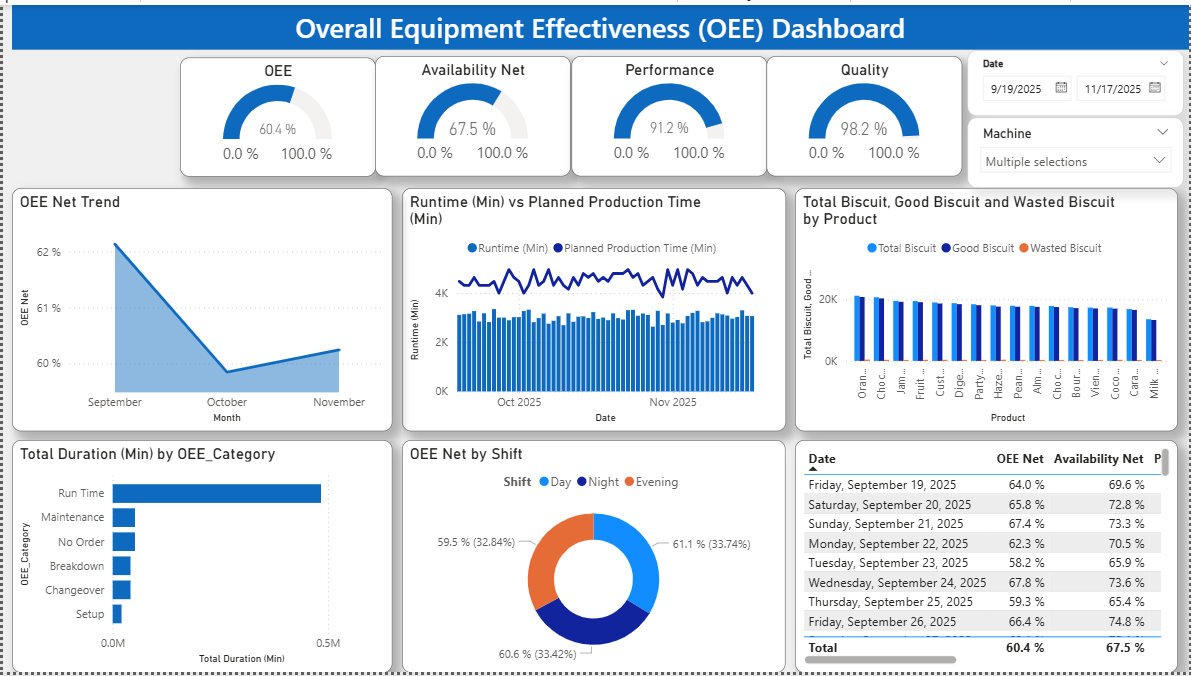

The dashboard page shown, as its layout file describes it:
{"tool":"powerbi","page":{"name":"Overview ","canvas":[1280,720],"ordinal":0},"visuals":[{"type":"shape","title":"fhgvjhbklhvghb","box":[10,0,1270.4,48.1],"z":0},{"type":"gauge","fields":{"Y":["FACT_PRODUCTION.OEE"]},"box":[190.4,56.2,211.3,128.8],"z":1000},{"type":"gauge","fields":{"Y":["FACT_PRODUCTION.Availability Net"]},"box":[401.7,55.3,211.3,129.7],"z":2000},{"type":"gauge","fields":{"Y":["FACT_PRODUCTION.Performance"]},"box":[613,55.3,211.3,129.7],"z":3000},{"type":"gauge","fields":{"Y":["FACT_PRODUCTION.Quality"]},"box":[824.3,55.3,211.3,129.7],"z":4000},{"type":"lineClusteredColumnComboChart","title":"Runtime (Min) vs Planned Production Time (Min)","fields":{"Y":["FACT_PRODUCTION.Runtime (Min)"],"Y2":["FACT_PRODUCTION.Planned Production Time (Min)"],"Category":["DIM_DATE.Date"]},"box":[430.7,196.8,414.4,263],"z":5000},{"type":"lineChart","title":"OEE Net Trend","fields":{"Y":["FACT_PRODUCTION.OEE Net"],"Category":["DIM_DATE.Date.Variation.Date Hierarchy.Year","DIM_DATE.Date.Variation.Date Hierarchy.Quarter","DIM_DATE.Date.Variation.Date Hierarchy.Month","DIM_DATE.Date.Variation.Date Hierarchy.Day"]},"box":[10,196.8,410.8,263],"z":6000},{"type":"barChart","fields":{"Category":["DIM_DOWNTIME_CAT.OEE_Category"],"Y":["FACT_PRODUCTION.Total Duration (Min)"]},"box":[10,468.8,410.8,251.2],"z":7000},{"type":"clusteredColumnChart","fields":{"Category":["DIM_PRODUCT.Product"],"Y":["FACT_PRODUCTION.Total Biscuit","FACT_PRODUCTION.Good Biscuit","FACT_PRODUCTION.Wasted Biscuit"]},"box":[855.1,196.8,413.5,263],"z":8000},{"type":"tableEx","fields":{"Values":["DIM_DATE.Date","FACT_PRODUCTION.OEE Net","FACT_PRODUCTION.Availability Net","FACT_PRODUCTION.Performance","FACT_PRODUCTION.Quality","FACT_PRODUCTION.Total Biscuit","FACT_PRODUCTION.Good Biscuit","FACT_PRODUCTION.Wasted Biscuit","FACT_PRODUCTION.Runtime (Min)"]},"box":[855.1,468.8,413.5,251.2],"z":9000},{"type":"slicer","fields":{"Values":["DIM_DATE.Date"]},"box":[1041,48,233.5,71.1],"z":10000},{"type":"slicer","fields":{"Values":["DIM_MACHINE.Machine"]},"box":[1041,120.9,233.5,75.7],"z":11000},{"type":"donutChart","fields":{"Category":["DIM_SHIFT.Shift"],"Y":["FACT_PRODUCTION.OEE Net"]},"box":[431,469,414,251],"z":12000}]}

Visuals, with their boxes in screenshot pixels (x1, y1, x2, y2), scaled from the page's 1280x720 canvas onto the 1191x676 screenshot:
"fhgvjhbklhvghb" shape: region(9, 0, 1190, 45)
gauge - FACT_PRODUCTION.OEE: region(177, 53, 374, 174)
gauge - FACT_PRODUCTION.Availability Net: region(374, 52, 570, 174)
gauge - FACT_PRODUCTION.Performance: region(570, 52, 767, 174)
gauge - FACT_PRODUCTION.Quality: region(767, 52, 964, 174)
"Runtime (Min) vs Planned Production Time (Min)" lineClusteredColumnComboChart: region(401, 185, 786, 432)
"OEE Net Trend" lineChart: region(9, 185, 392, 432)
barChart - DIM_DOWNTIME_CAT.OEE_Category x FACT_PRODUCTION.Total Duration (Min): region(9, 440, 392, 675)
clusteredColumnChart - DIM_PRODUCT.Product x FACT_PRODUCTION.Total Biscuit: region(796, 185, 1180, 432)
tableEx - DIM_DATE.Date x FACT_PRODUCTION.OEE Net: region(796, 440, 1180, 675)
slicer - DIM_DATE.Date: region(969, 45, 1186, 112)
slicer - DIM_MACHINE.Machine: region(969, 114, 1186, 185)
donutChart - DIM_SHIFT.Shift x FACT_PRODUCTION.OEE Net: region(401, 440, 786, 675)
